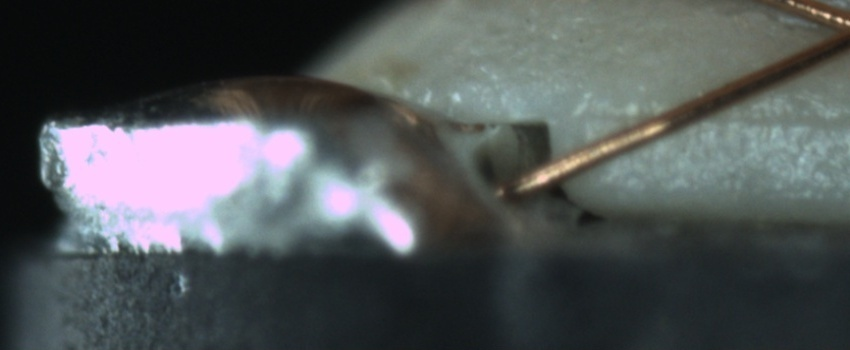CL: (800, 1, 849, 66)
DL: (601, 85, 849, 149)
